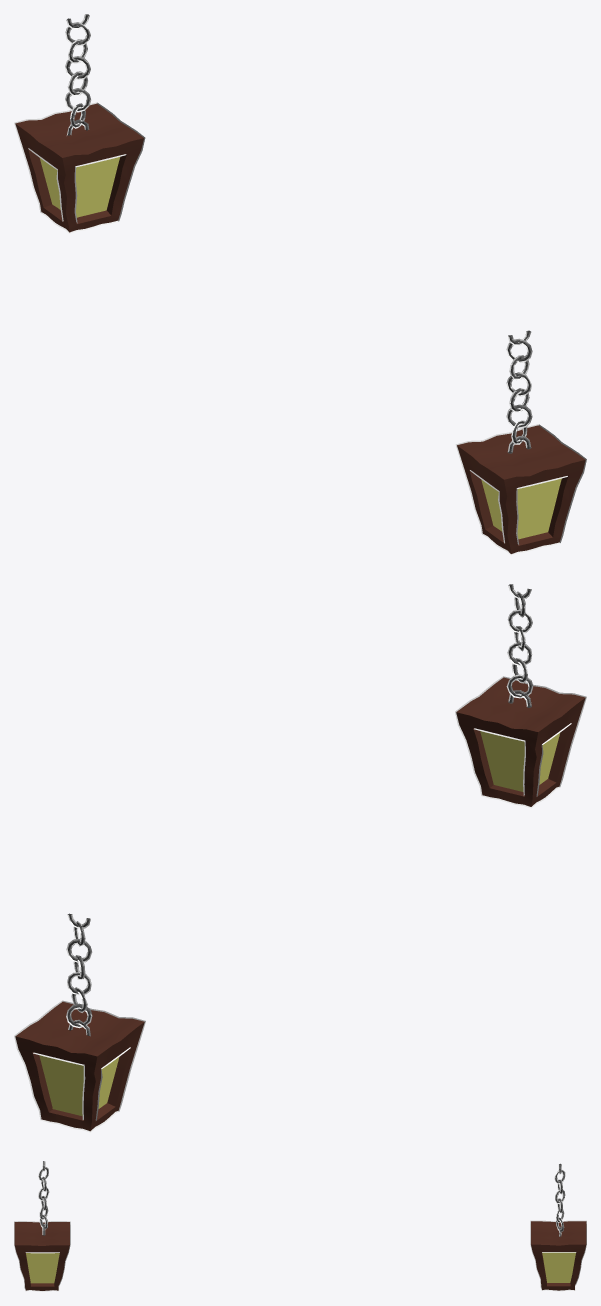
The model's file is lantern.glb.
The picture shows the model from 3 angles, top to bottom: view 1: azimuth 30°, elevation 25°; view 2: azimuth 150°, elevation 25°; view 3: azimuth 270°, elevation 25°; orthographic projection. The views are drawn at different scales.
Visible parts, largest first — view 1: lantern2, lantern; view 2: lantern2, lantern; view 3: lantern2, lantern.
Boxes of the visible parts, x1=… form: lantern2: x1=455, y1=330, x2=586, y2=555; lantern: x1=14, y1=14, x2=145, y2=233; lantern2: x1=455, y1=584, x2=586, y2=808; lantern: x1=14, y1=913, x2=145, y2=1132; lantern2: x1=14, y1=1161, x2=70, y2=1291; lantern: x1=530, y1=1163, x2=586, y2=1291.
Bounding box in the file's own units: 0.6554 × 1.51 × 6.5.
